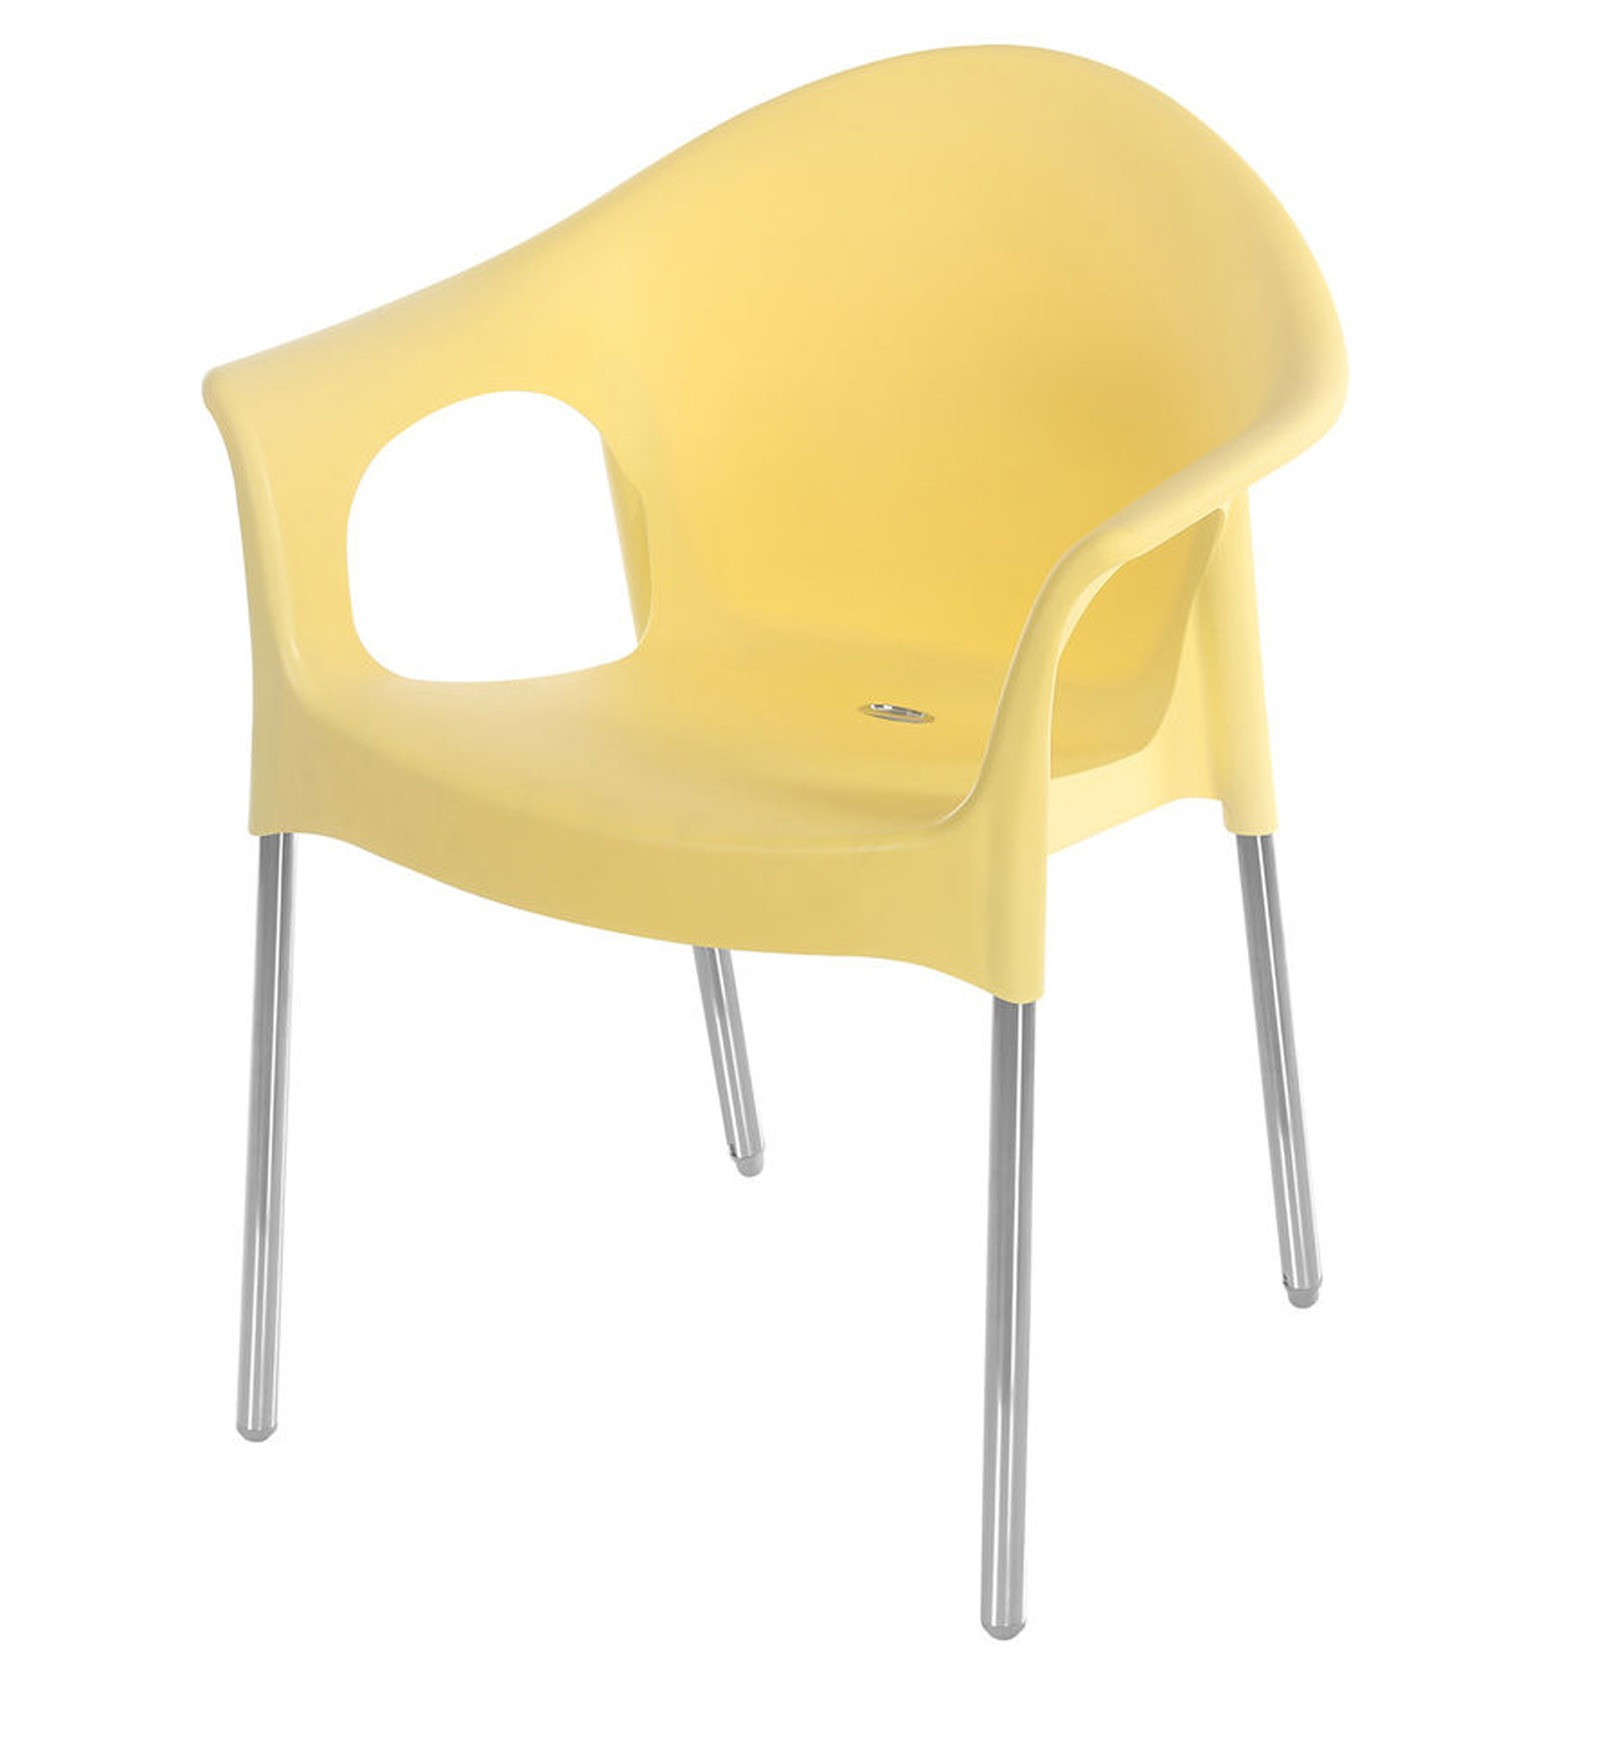Novella 09 Stainless Steel Chair in Yellow Colour by Nilkamal: (201, 37, 1356, 1634)
